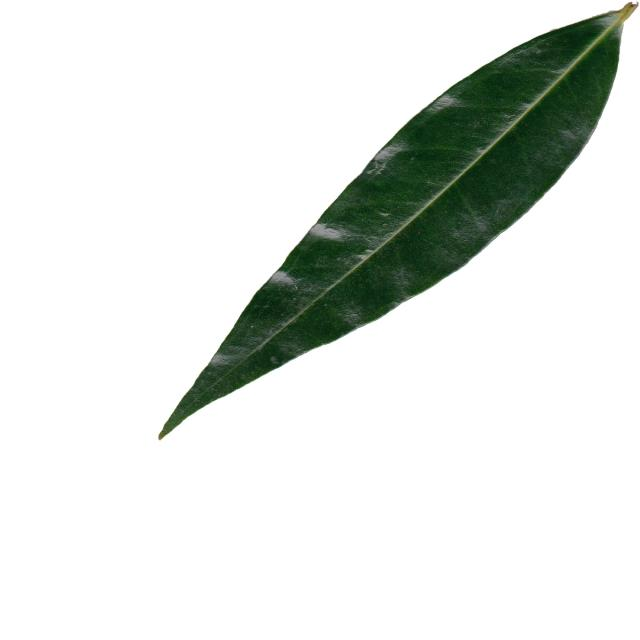Medicinal-Rose Apple: (154, 0, 640, 442)
